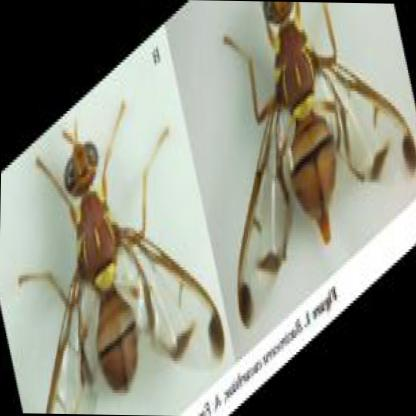fruit fly: (18, 107, 224, 413)
